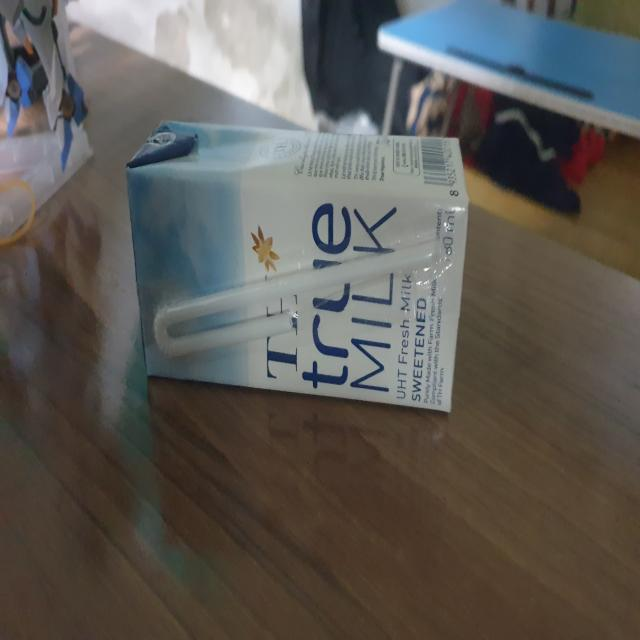TH: (125, 120, 469, 412)
